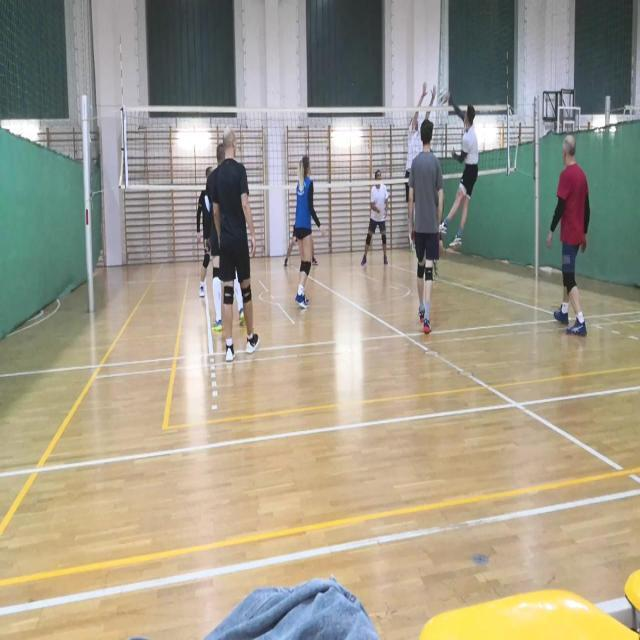volleyball: (436, 88, 449, 104)
